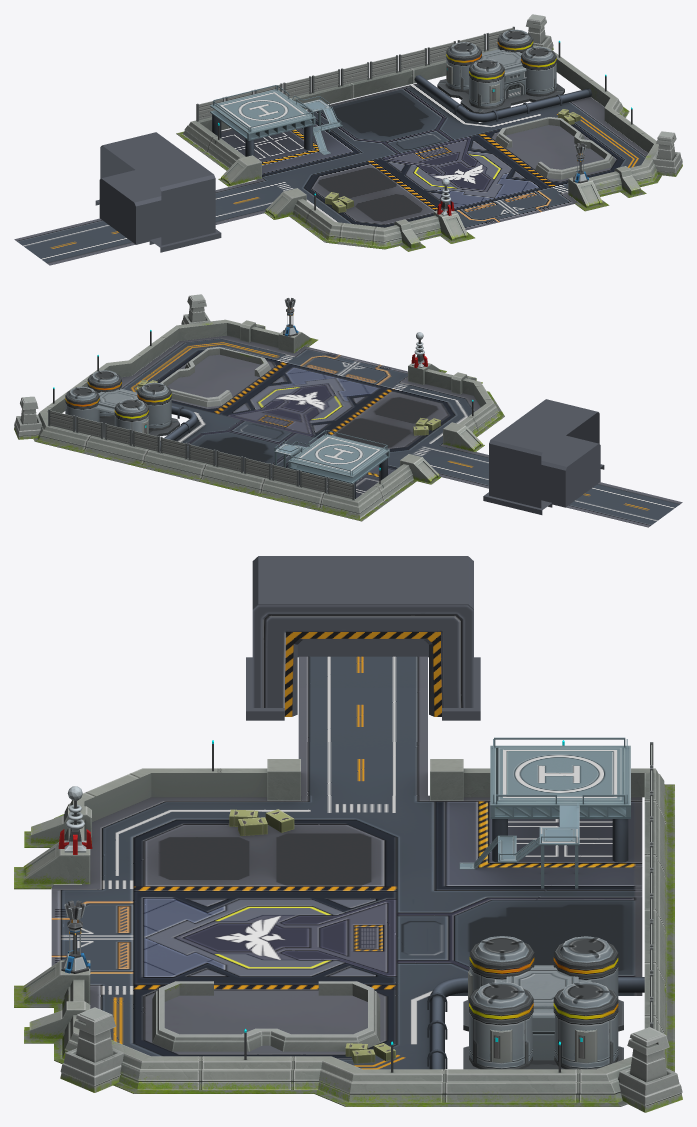
File: man_ctiy.FBX
3 renders of one model, top to bottom at view 1: azimuth 30°, elevation 25°; view 2: azimuth 150°, elevation 25°; view 3: azimuth 270°, elevation 25°, orthographic. The views are drawn at different scales.
Parts seen in each view (by area): view 1: city_floor, city012, city_meng, city015, city010, city07, city03, city04, city08, city01, city011, city09; view 2: city_floor, city012, city_meng, city015, city07, city010, city04, city01, city03, city08, city011, city013 (+3 smaller); view 3: city_floor, city012, city_meng, city015, city010, city01, city04, city08, city03, city011, city09, u_turret (+2 smaller).
Boxes of the visible parts, x1=… form: city_floor: x1=14, y1=83, x2=648, y2=265; city012: x1=176, y1=45, x2=662, y2=251; city_meng: x1=95, y1=132, x2=221, y2=252; city015: x1=446, y1=29, x2=556, y2=109; city010: x1=210, y1=85, x2=315, y2=140; city07: x1=225, y1=41, x2=455, y2=101; city03: x1=414, y1=75, x2=591, y2=121; city04: x1=495, y1=117, x2=615, y2=179; city08: x1=212, y1=95, x2=342, y2=156; city01: x1=526, y1=14, x2=682, y2=176; city011: x1=480, y1=49, x2=526, y2=98; city09: x1=325, y1=192, x2=353, y2=212; city_floor: x1=121, y1=335, x2=682, y2=527; city012: x1=33, y1=319, x2=504, y2=521; city_meng: x1=483, y1=399, x2=604, y2=514; city015: x1=65, y1=370, x2=171, y2=444; city07: x1=104, y1=423, x2=326, y2=493; city010: x1=288, y1=430, x2=389, y2=483; city04: x1=160, y1=347, x2=270, y2=407; city01: x1=14, y1=294, x2=210, y2=439; city03: x1=99, y1=405, x2=197, y2=450; city08: x1=274, y1=440, x2=389, y2=498; city011: x1=95, y1=389, x2=138, y2=413; city013: x1=76, y1=416, x2=103, y2=438; city_floor: x1=51, y1=656, x2=642, y2=1069; city012: x1=14, y1=759, x2=674, y2=1106; city_meng: x1=246, y1=556, x2=480, y2=720; city015: x1=468, y1=936, x2=618, y2=1069; city010: x1=490, y1=737, x2=630, y2=818; city01: x1=60, y1=1007, x2=682, y2=1112; city04: x1=152, y1=981, x2=380, y2=1051; city08: x1=459, y1=802, x2=630, y2=888; city03: x1=427, y1=977, x2=644, y2=1069; city011: x1=493, y1=965, x2=591, y2=1060; city09: x1=229, y1=809, x2=294, y2=835; u_turret: x1=58, y1=800, x2=92, y2=854.
Bounding box in the file's own units: 45530 × 4661 × 24200.
